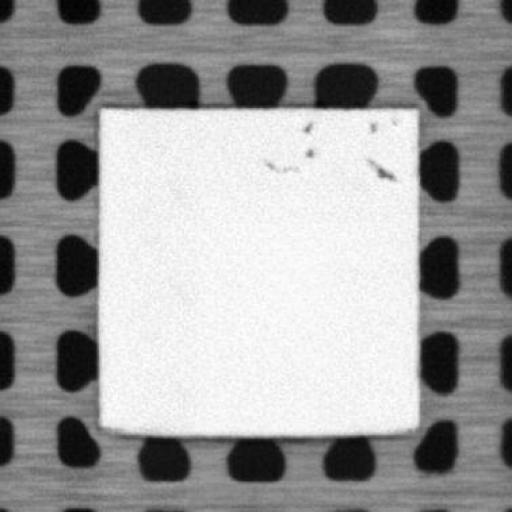DIE_INK: (366, 157, 396, 181), (260, 157, 299, 174), (302, 144, 314, 160), (368, 118, 380, 132), (300, 118, 312, 131)
